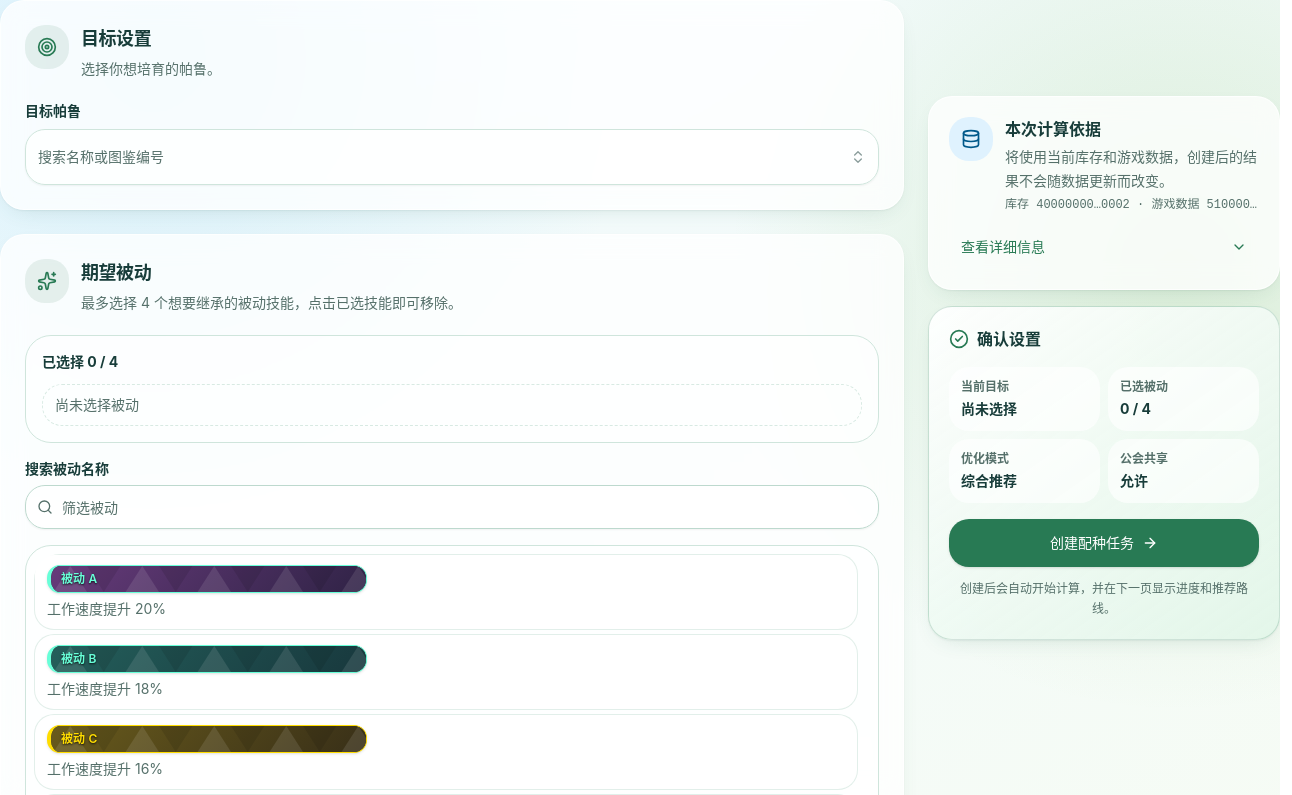
it: Phase 6 breeder form › requires a target from the fixed published catalog
Click the button "创建配种任务" at coordinates (1104, 543), box [949,519,1259,567]
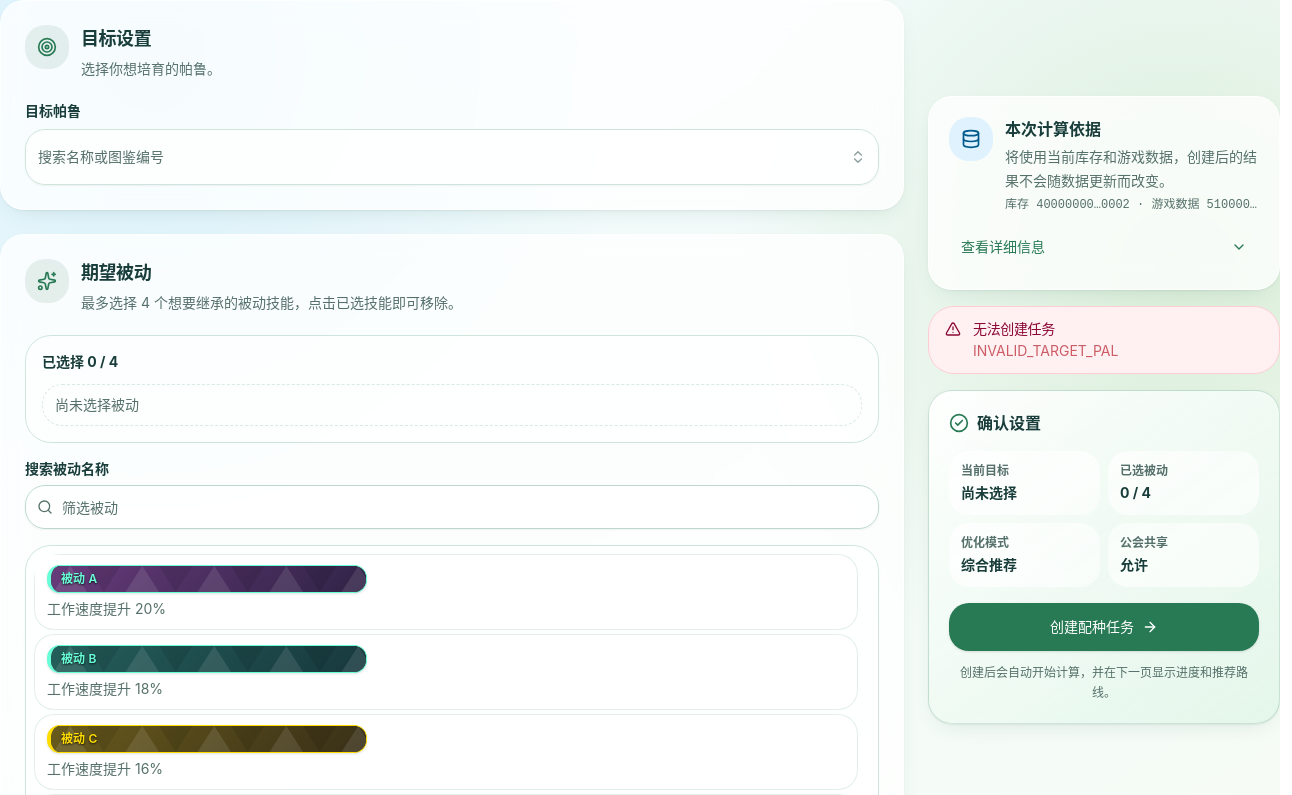
Check: the message shows "INVALID_TARGET_PAL", box [973,342,1118,359]
